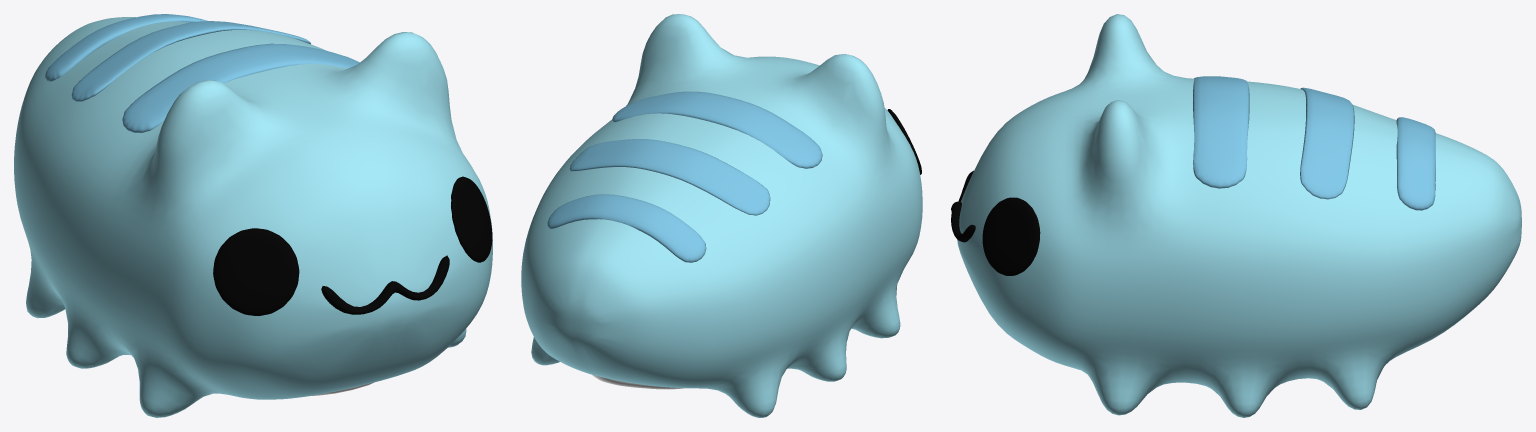
The model's file is capoo.fbx.
The picture shows the model from 3 angles, left to right: view 1: azimuth 30°, elevation 25°; view 2: azimuth 150°, elevation 25°; view 3: azimuth 270°, elevation 25°; orthographic projection. The views are drawn at different scales.
Visible parts, largest first — view 1: 平面; view 2: 平面; view 3: 平面.
Boxes of the visible parts, x1,y1,x2,y2 form: 平面: [14, 14, 492, 417]; 平面: [521, 14, 922, 417]; 平面: [951, 14, 1521, 417].
Bounding box in the file's own units: 589 × 538 × 954.
